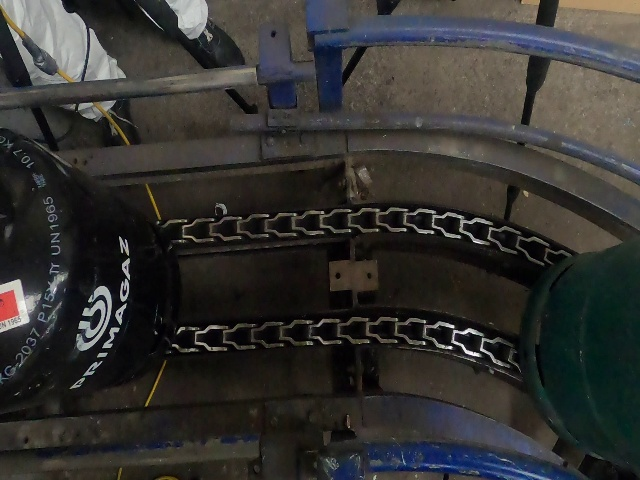gas_bottle: (0, 1, 635, 480)
